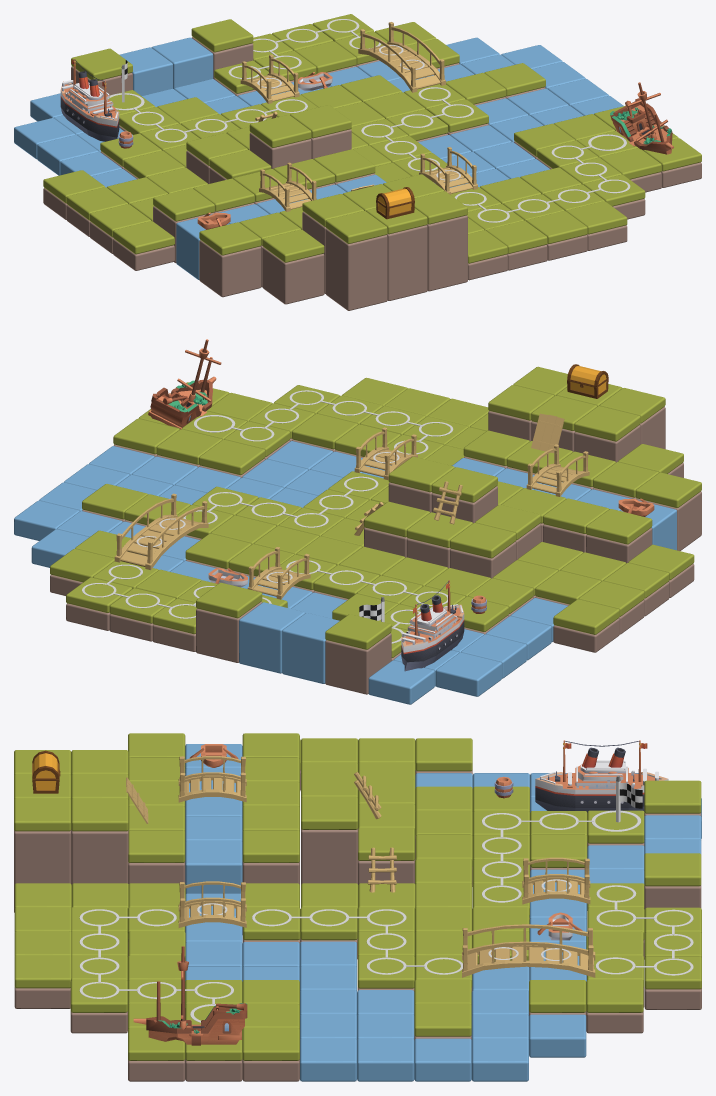
File: game_map.glb
3 views of the same model, one above another, from view 1: azimuth 30°, elevation 25°; view 2: azimuth 150°, elevation 25°; view 3: azimuth 270°, elevation 25° (orthographic). The views are drawn at different scales.
Parts seen in each view (by area): view 1: Cube.103, Cube.126, Cube.143, Cube.123, Cube.130, Cube.127, ship-ocean-liner-small.001, Cube.121, Cube.136, Cube.097, ship-wreck, Cube.107 (+90 smaller); view 2: Cube.103, Cube.143, Cube.130, Cube.121, Cube.122, ship-ocean-liner-small.001, Cube.136, Cube.124, Cube.139, Cube.092, ship-wreck, Cube.120 (+88 smaller); view 3: Cube.253, Cube.103, Cube.130, Cube.122, Cube.126, ship-ocean-liner-small.001, Cube.136, Cube.119, Cube.120, Cube.143, ship-wreck, Cube.005 (+102 smaller).
Part boxes in pixels (left/top/right/bottom): Cube.103: left=71, top=19, right=253, bottom=95; Cube.126: left=366, top=191, right=467, bottom=300; Cube.143: left=153, top=188, right=261, bottom=297; Cube.123: left=325, top=211, right=387, bottom=310; Cube.130: left=249, top=105, right=351, bottom=168; Cube.127: left=262, top=229, right=324, bottom=304; ship-ocean-liner-small.001: left=60, top=59, right=119, bottom=141; Cube.121: left=193, top=178, right=300, bottom=287; Cube.136: left=358, top=22, right=445, bottom=92; Cube.097: left=113, top=221, right=174, bottom=270; ship-wreck: left=610, top=82, right=673, bottom=154; Cube.107: left=526, top=211, right=587, bottom=260; Cube.103: left=196, top=582, right=391, bottom=694; Cube.143: left=586, top=472, right=701, bottom=562; Cube.130: left=388, top=456, right=497, bottom=522; Cube.121: left=543, top=462, right=658, bottom=552; Cube.122: left=488, top=385, right=597, bottom=451; ship-ocean-liner-small.001: left=401, top=580, right=464, bottom=671; Cube.136: left=114, top=493, right=208, bottom=570; Cube.124: left=574, top=406, right=640, bottom=462; Cube.139: left=450, top=523, right=516, bottom=578; Cube.092: left=553, top=599, right=619, bottom=652; ship-wreck: left=148, top=339, right=221, bottom=429; Cube.120: left=501, top=451, right=615, bottom=541; Cube.253: left=128, top=830, right=299, bottom=893; Cube.103: left=644, top=780, right=701, bottom=909; Cube.130: left=301, top=772, right=358, bottom=884; Cube.122: left=71, top=774, right=128, bottom=884; Cube.126: left=14, top=774, right=71, bottom=912; ship-ocean-liner-small.001: left=535, top=740, right=668, bottom=812; Cube.136: left=462, top=924, right=595, bottom=977; Cube.119: left=128, top=806, right=299, bottom=842; Cube.120: left=128, top=781, right=299, bottom=818; Cube.143: left=128, top=733, right=299, bottom=769; ship-wreck: left=133, top=946, right=247, bottom=1045; Cube.005: left=242, top=1028, right=299, bottom=1081.
Size of the model in its own units: 12.96 by 2.32 by 12.01.
Materials: 23 (18 with a texture image).
